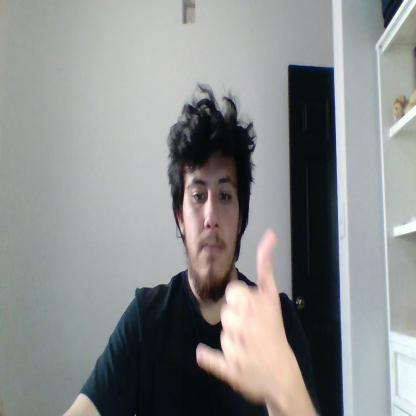Y: (197, 230, 286, 402)
